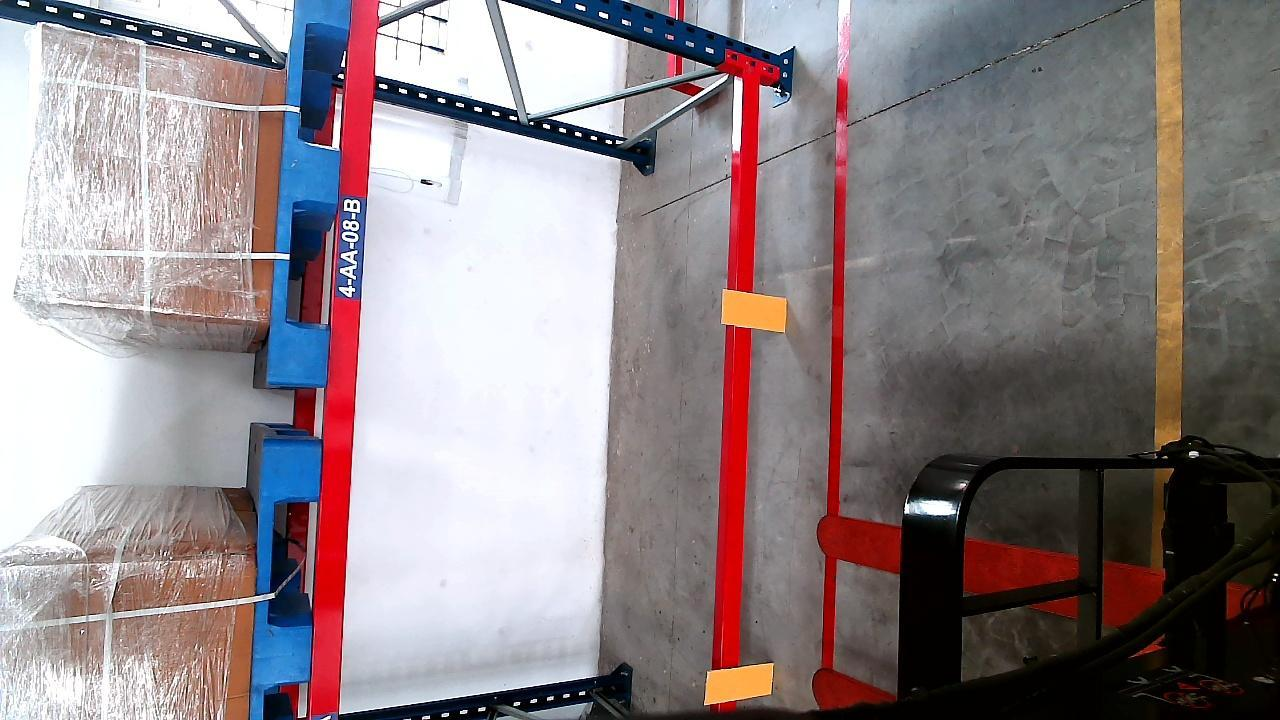red_line: (815, 20, 857, 667)
yellow_line: (1154, 0, 1185, 464)
